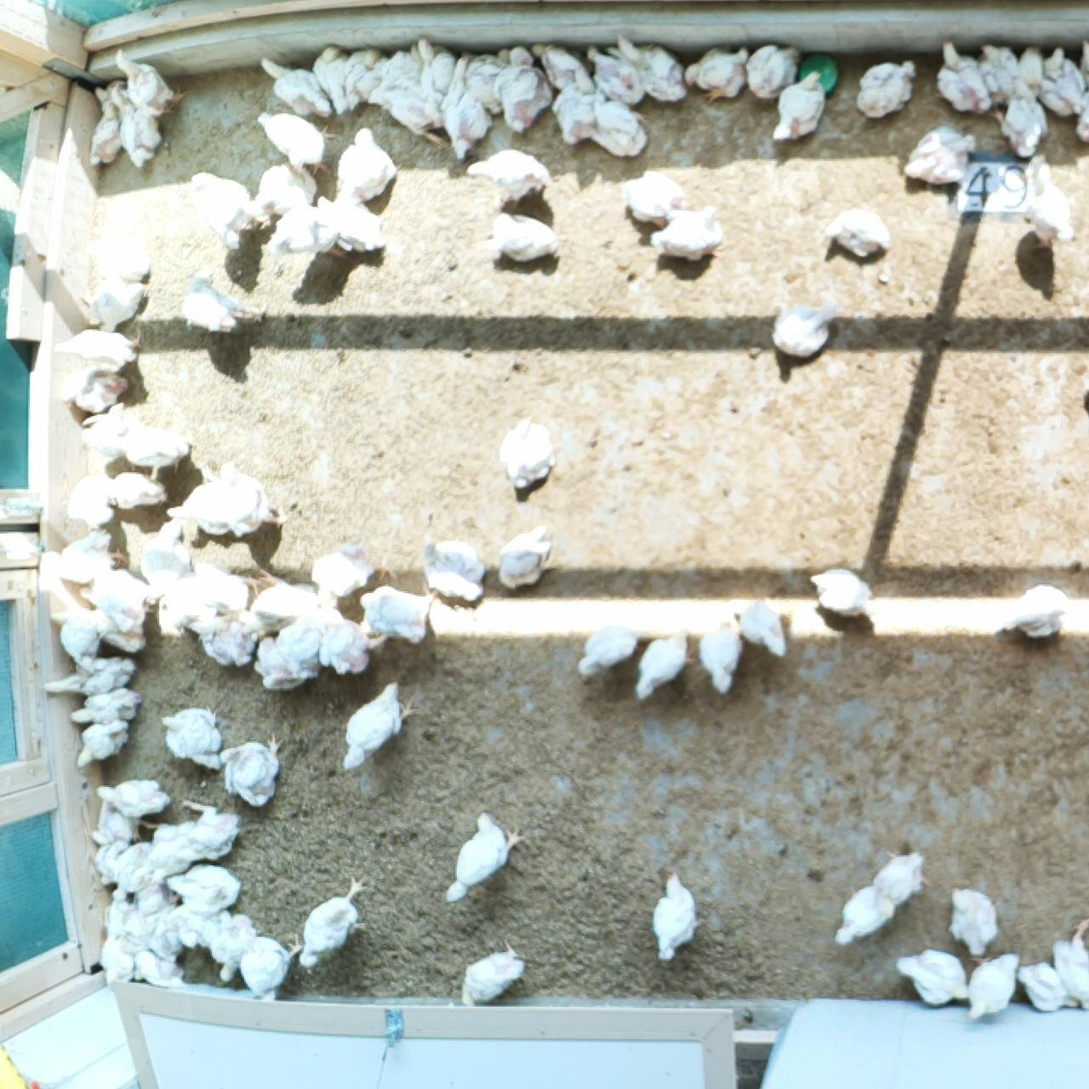chicken: (295, 870, 379, 975), (440, 804, 526, 906), (337, 674, 423, 773), (216, 454, 290, 545), (233, 566, 324, 640), (462, 139, 555, 210), (1018, 154, 1080, 258), (214, 728, 291, 811), (644, 866, 709, 963), (94, 419, 197, 480), (180, 267, 268, 337), (256, 110, 342, 181), (109, 41, 189, 117), (889, 939, 974, 1010), (109, 80, 175, 170), (643, 200, 731, 267), (765, 288, 842, 364), (436, 51, 487, 165), (314, 602, 389, 678), (485, 209, 568, 277), (357, 578, 441, 645), (157, 700, 233, 774), (897, 121, 982, 187), (492, 411, 559, 494), (615, 29, 689, 104), (48, 525, 130, 592), (1001, 573, 1076, 646), (492, 41, 552, 130), (689, 610, 751, 696), (170, 790, 241, 865), (627, 628, 696, 705), (766, 67, 833, 146), (259, 48, 332, 120), (312, 190, 387, 260), (420, 532, 487, 610), (189, 165, 255, 244), (333, 127, 399, 205), (961, 945, 1024, 1026), (829, 882, 902, 951), (988, 76, 1052, 154), (258, 201, 339, 262), (934, 36, 994, 118), (47, 324, 149, 372), (461, 934, 528, 1006), (186, 605, 263, 667), (852, 55, 921, 124), (819, 203, 892, 268), (236, 930, 304, 999), (732, 592, 798, 663), (251, 160, 323, 225), (618, 166, 692, 229), (684, 41, 754, 107), (205, 908, 264, 986), (86, 605, 167, 661), (161, 476, 231, 540), (54, 364, 131, 422), (38, 654, 145, 695), (588, 93, 653, 160), (574, 619, 641, 684), (384, 86, 452, 150), (498, 519, 557, 592), (83, 271, 151, 334), (585, 41, 648, 109), (308, 539, 377, 601), (947, 882, 1004, 957), (73, 563, 153, 616), (249, 632, 319, 692), (135, 513, 193, 585), (80, 226, 154, 282), (193, 556, 268, 611), (154, 577, 218, 641), (527, 33, 593, 95), (277, 607, 332, 680), (807, 562, 877, 619), (164, 861, 245, 910), (743, 37, 804, 101), (66, 715, 133, 773), (58, 603, 115, 671), (1051, 910, 1089, 1012), (1012, 958, 1079, 1015), (1039, 41, 1089, 117), (63, 683, 148, 727), (462, 46, 516, 115), (61, 468, 118, 533), (309, 41, 358, 116), (873, 845, 935, 903), (128, 819, 193, 874), (974, 41, 1028, 105), (552, 76, 602, 145), (345, 42, 393, 113), (99, 464, 168, 513), (78, 397, 128, 462), (369, 45, 422, 105), (93, 774, 170, 811), (93, 838, 151, 886), (92, 609, 151, 654), (109, 864, 163, 911), (132, 948, 189, 990), (166, 903, 215, 951), (91, 806, 142, 852), (90, 97, 120, 171), (417, 34, 458, 87), (124, 902, 170, 948), (97, 937, 136, 989), (1017, 48, 1052, 104), (102, 888, 127, 933), (89, 84, 117, 111)
